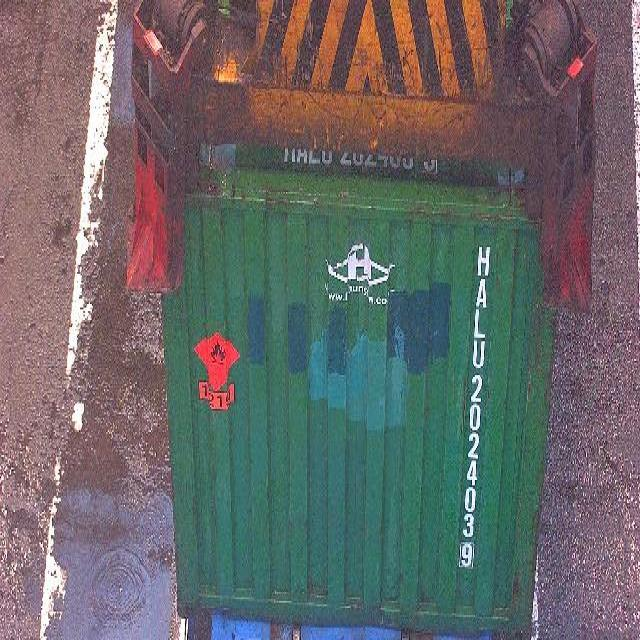container_number: (460, 220, 493, 568)
